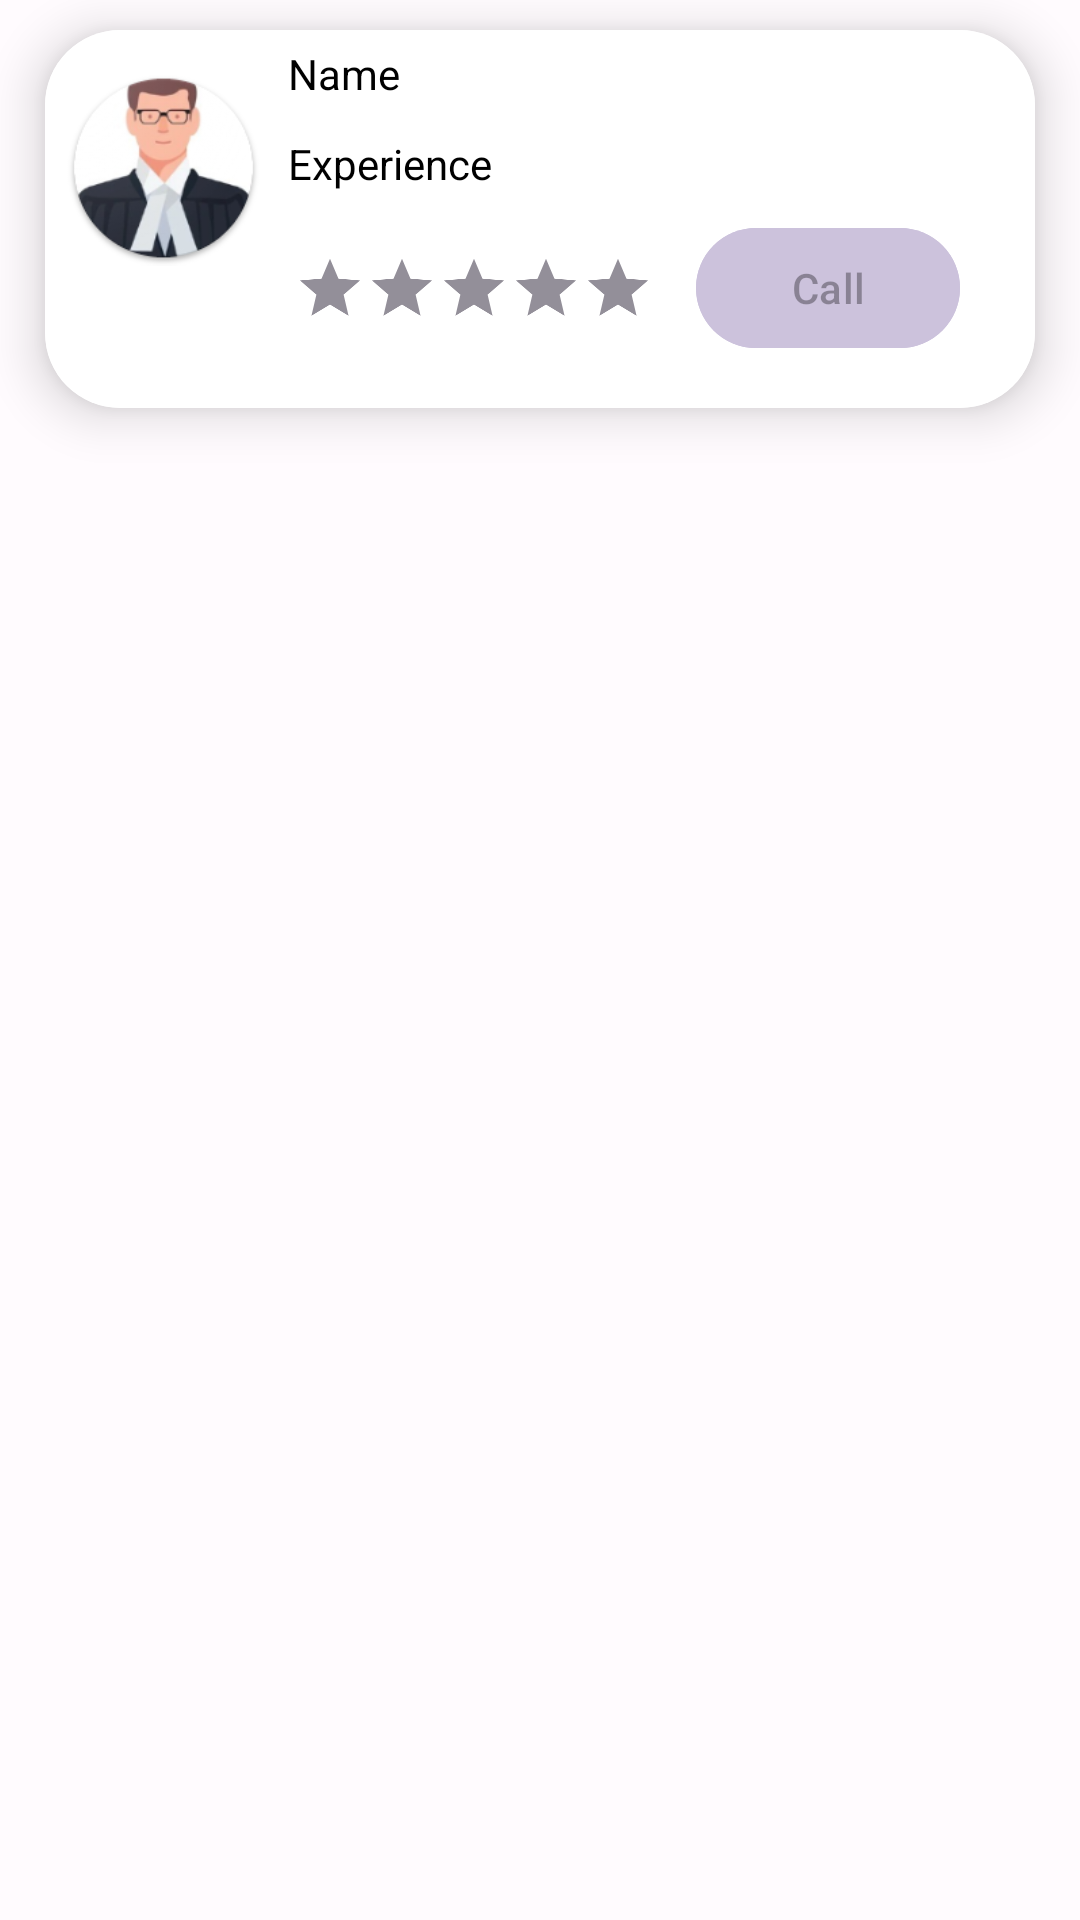

Icons on this 1080*1920 Android screen, each with its box as {"left": x1, "top": y1, "right": x2, "bottom": y2}:
advocate: {"left": 73, "top": 78, "right": 254, "bottom": 262}
